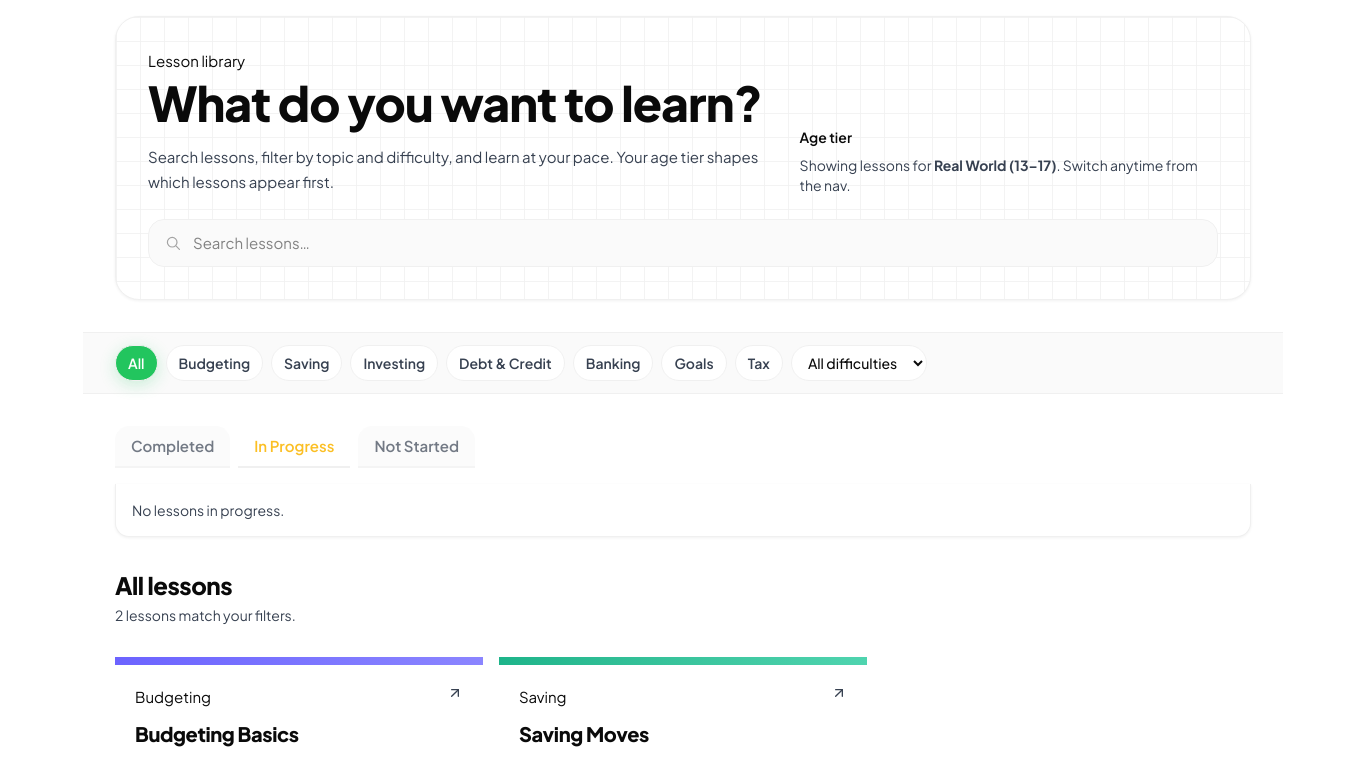
Test: LessonLibraryClient › filters lessons by topic button and can clear filters
The width and height of the screenshot is (1366, 757).
Click the button "Budgeting" at (214, 362), box [166, 344, 263, 380]
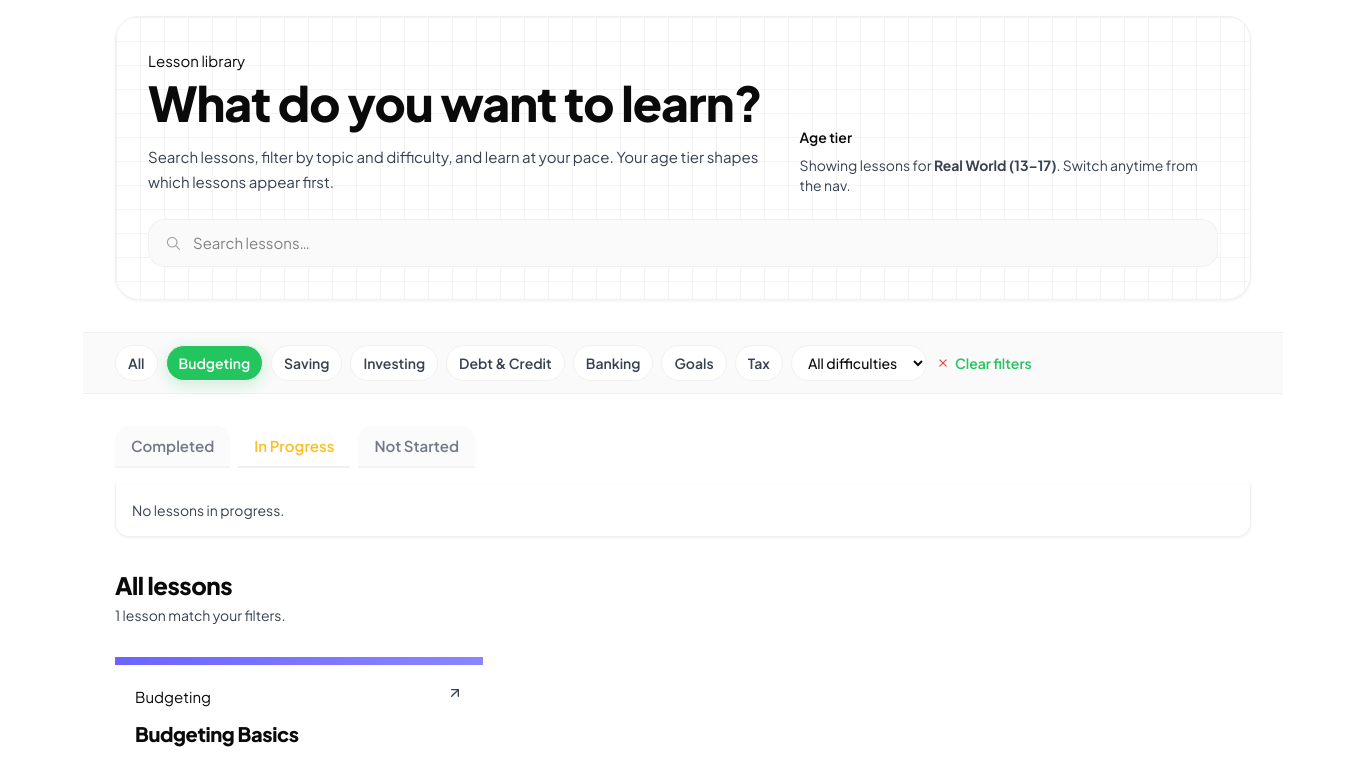
Expected: the heading "Budgeting Basics" is shown, [135, 720, 299, 746]
Expected: the link "Saving Moves" is gone
Click the button "Clear filters" at (983, 362), box [935, 344, 1032, 380]
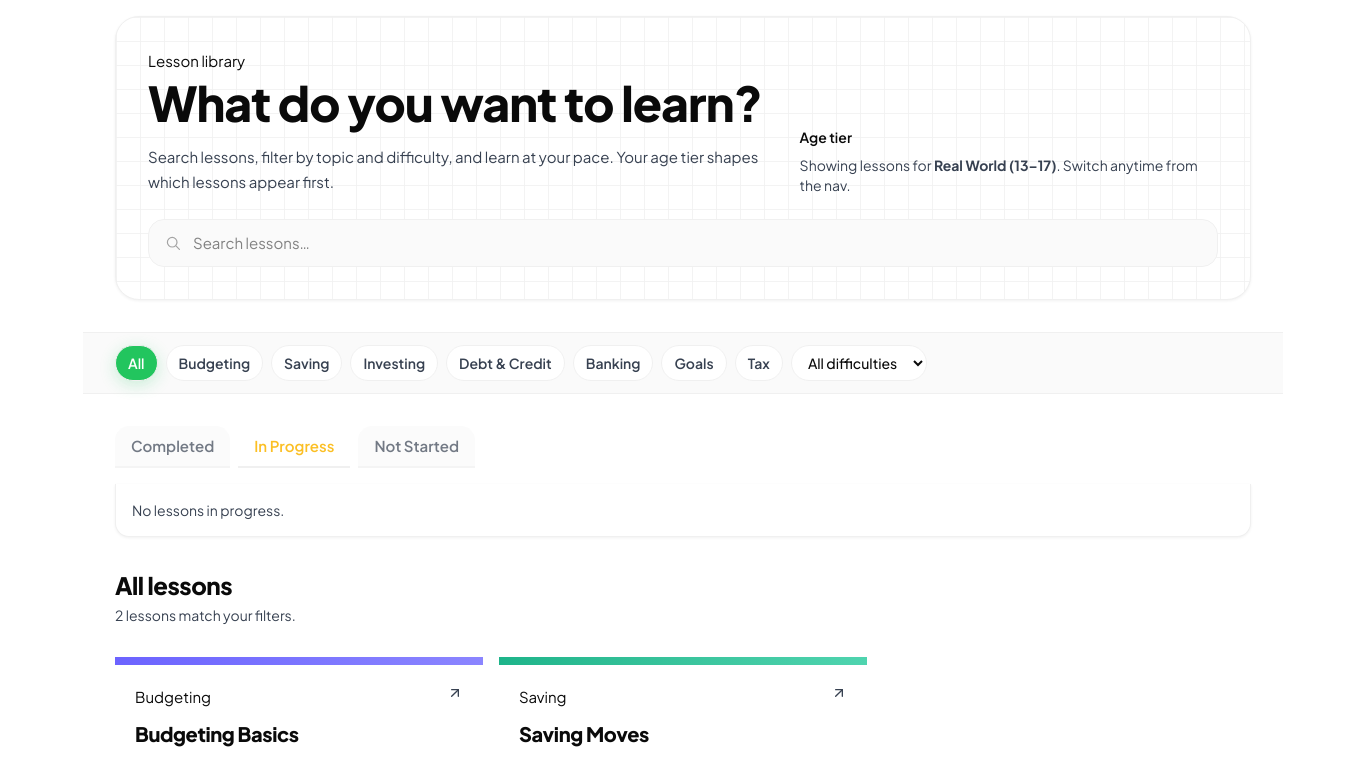
Expected: the heading "Saving Moves" is shown, [519, 720, 649, 746]
